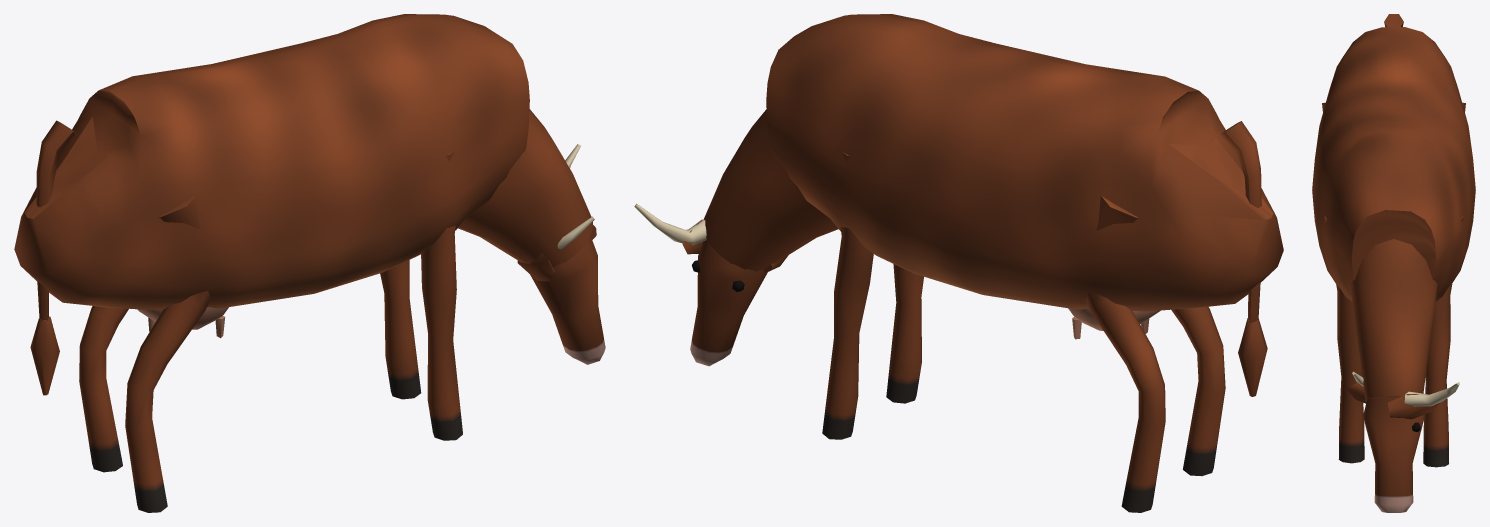
The model's file is tpl_life_herd_1175_cattle_red_graze_h.glb.
The picture shows the model from 3 angles, left to right: view 1: azimuth 30°, elevation 25°; view 2: azimuth 150°, elevation 25°; view 3: azimuth 270°, elevation 25°; orthographic projection. The views are drawn at different scales.
Parts seen in each view (by area): view 1: tpl_life_herd_1175_cattle_red_graze_h; view 2: tpl_life_herd_1175_cattle_red_graze_h; view 3: tpl_life_herd_1175_cattle_red_graze_h.
Boxes of the visible parts, x1,y1,x2,y2 form: tpl_life_herd_1175_cattle_red_graze_h: (14,14,605,512); tpl_life_herd_1175_cattle_red_graze_h: (634,14,1283,512); tpl_life_herd_1175_cattle_red_graze_h: (1312,14,1475,512).
Bounding box in the file's own units: 2.21 × 1.41 × 0.6588.
Materials: 3 (1 with a texture image).
